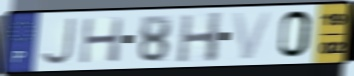0: (277, 9, 313, 61)
8: (137, 14, 174, 65)
H: (175, 10, 224, 64), (78, 16, 126, 66)
J: (38, 16, 77, 67)
V: (230, 10, 275, 62)
